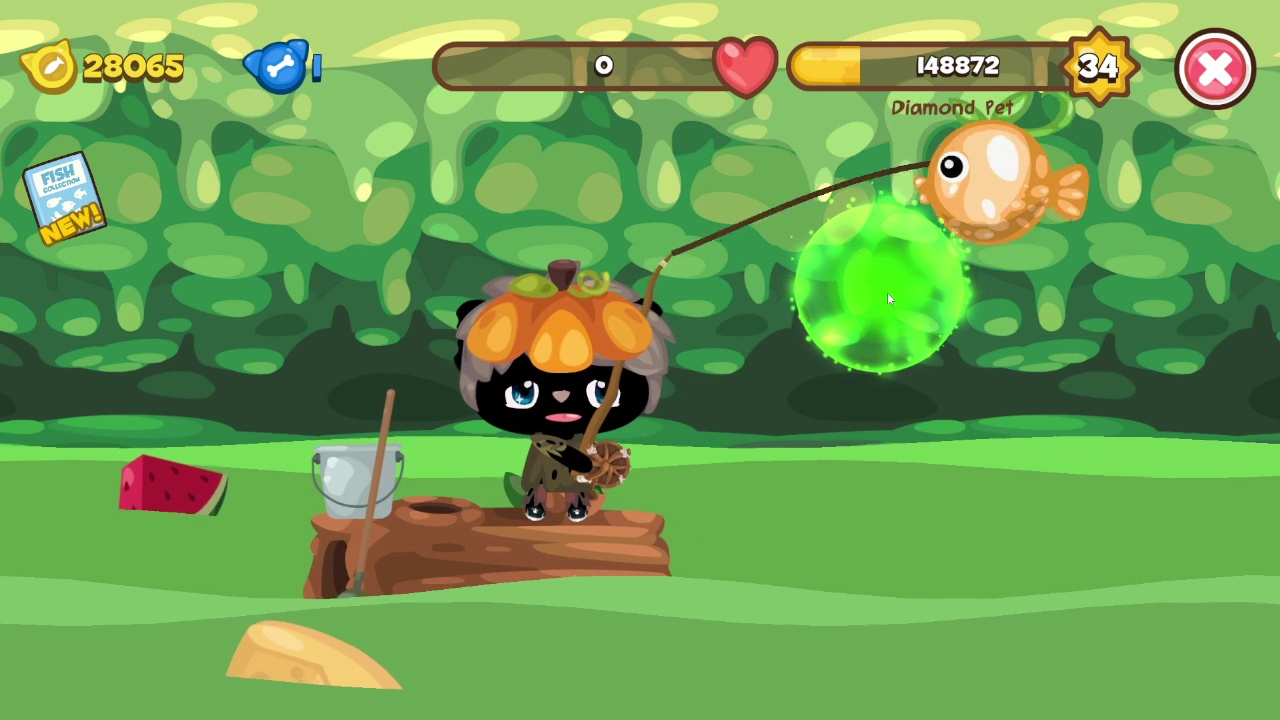point: (789, 198, 969, 375)
